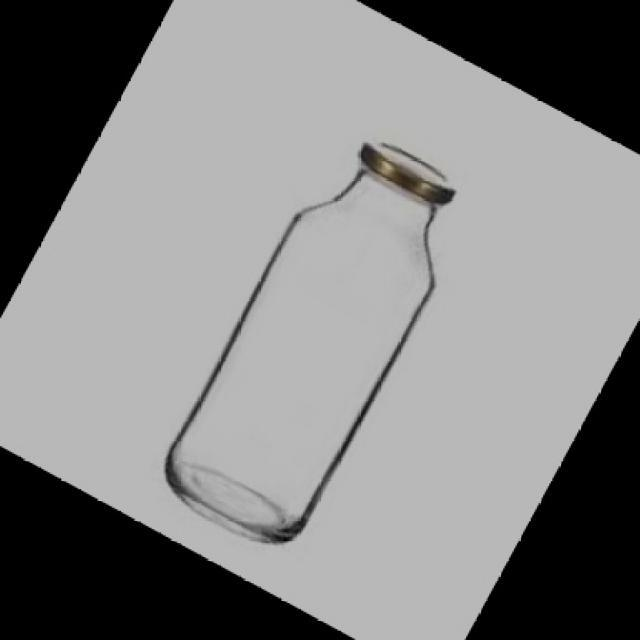Glass: (164, 139, 458, 544)
